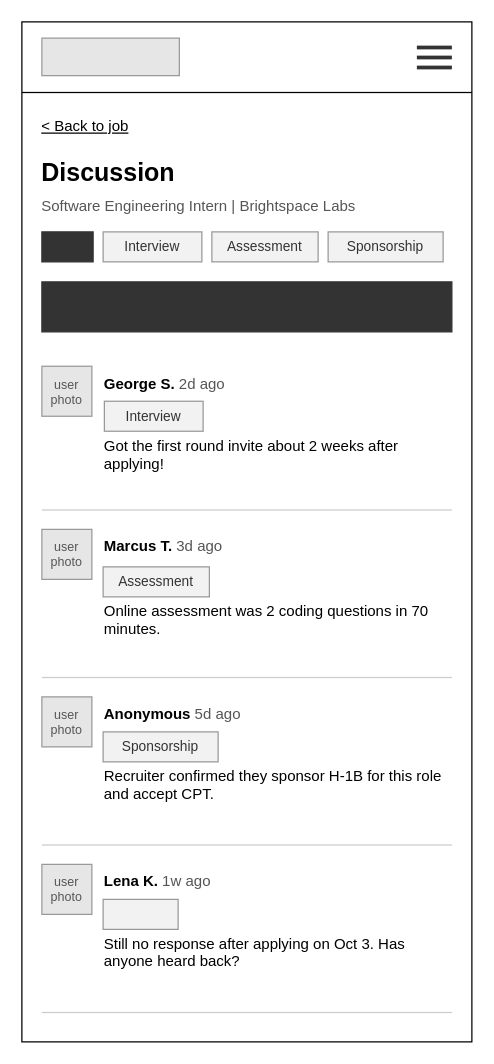
This 494x1064 diagram has some shape labels left out. The centre of each missing label's shape, as x and y in pixels:
All: [67,246]
logo: [110,56]
New Post: [246,306]
Update: [140,913]
